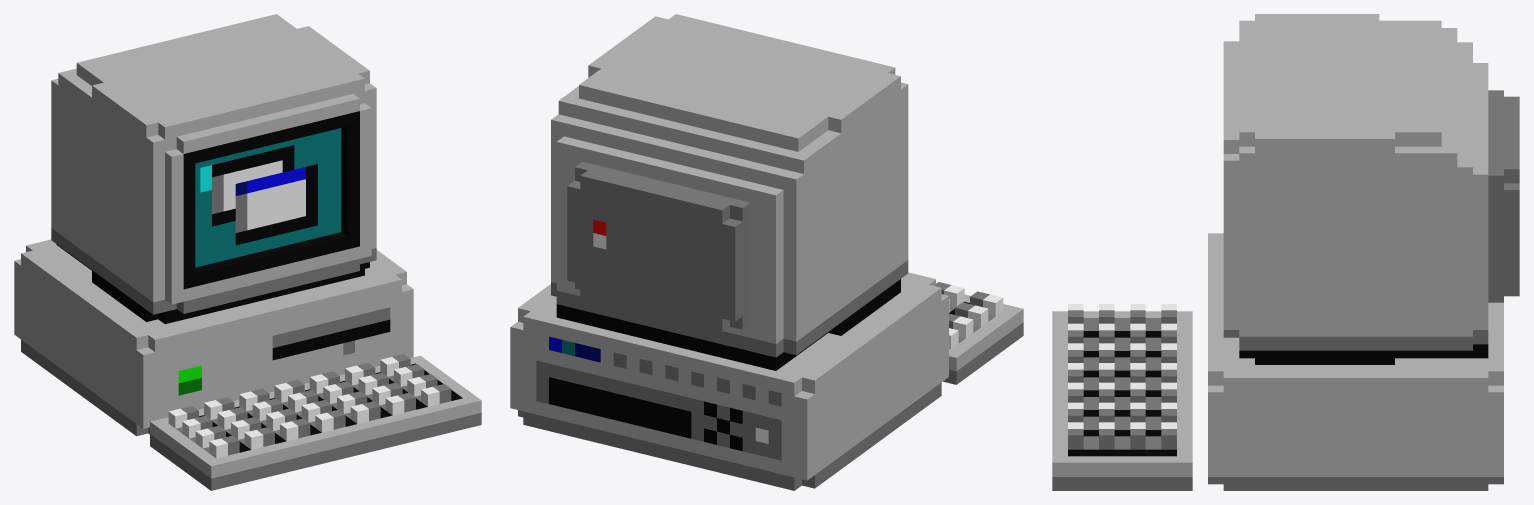
File: building_26.fbx
The picture shows the model from 3 angles, left to right: view 1: azimuth 30°, elevation 25°; view 2: azimuth 150°, elevation 25°; view 3: azimuth 270°, elevation 25°; orthographic projection. The views are drawn at different scales.
Visible parts, largest first — view 1: win95; view 2: win95; view 3: win95.
Part boxes in pixels (x1,y1,x2,y2): win95: (14,14,481,490); win95: (510,14,1023,490); win95: (1052,14,1519,490).
Bounding box in the file's own units: 1093 × 1141 × 1426.
